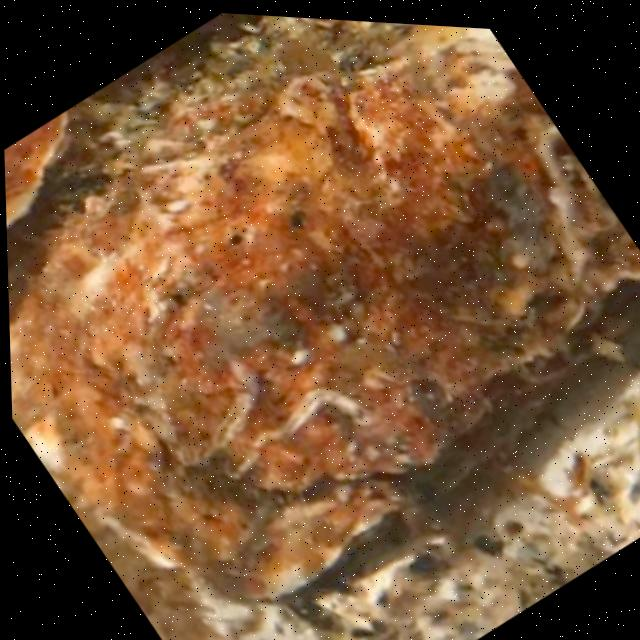Oyster-Indeterminate: (71, 27, 640, 604), (4, 114, 64, 228)
